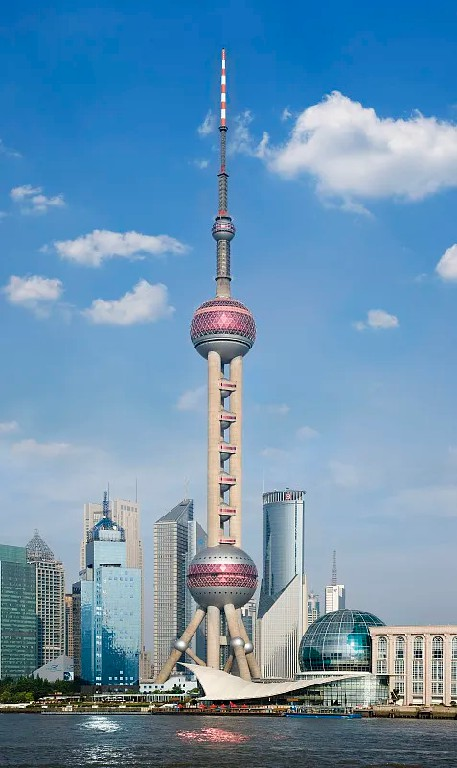Oriental: (154, 48, 259, 683)
